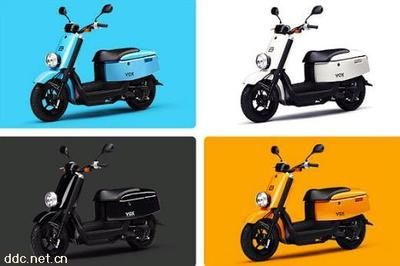non-vehicle: (24, 2, 169, 117), (23, 142, 165, 254), (238, 143, 371, 260), (240, 9, 377, 119)
